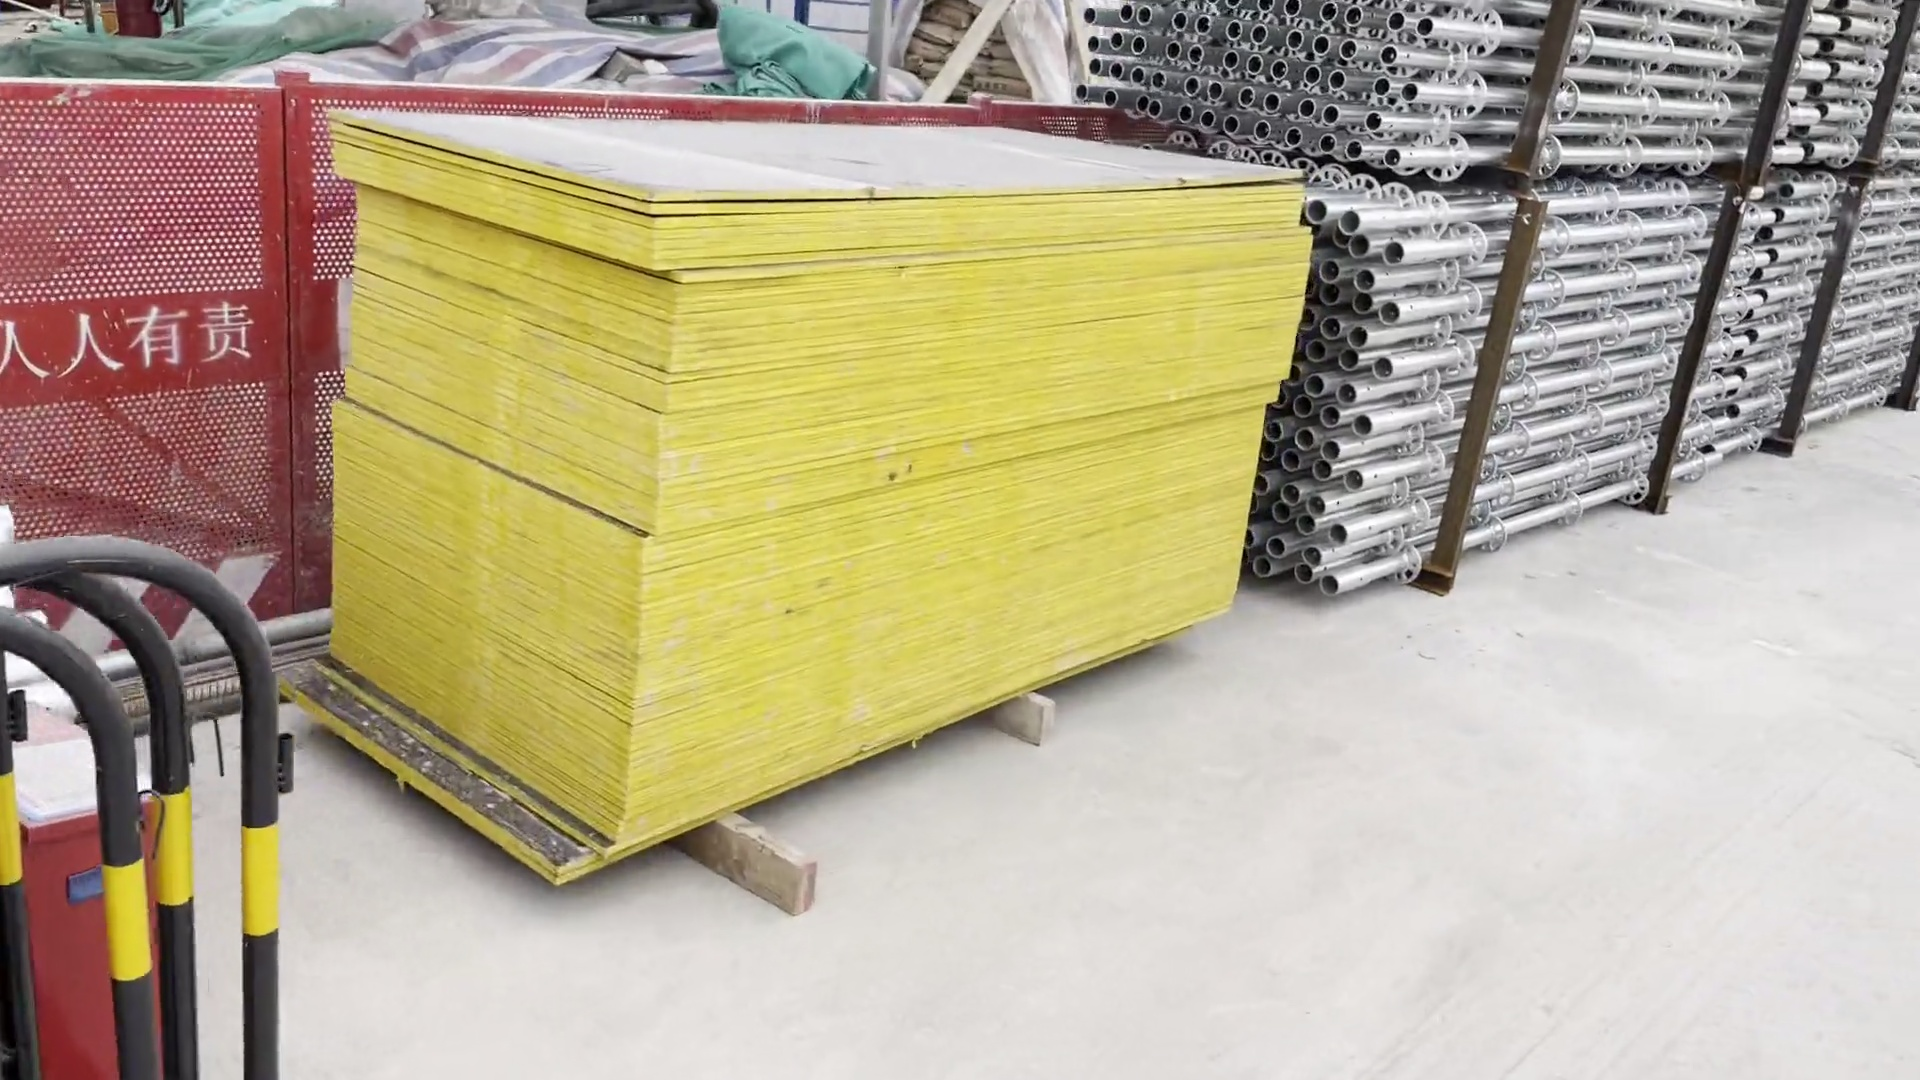board: (307, 102, 1313, 927)
scaffold: (1244, 193, 1741, 579), (1118, 1, 1747, 174), (1731, 1, 1916, 485)
slogan: (1, 305, 247, 407)
